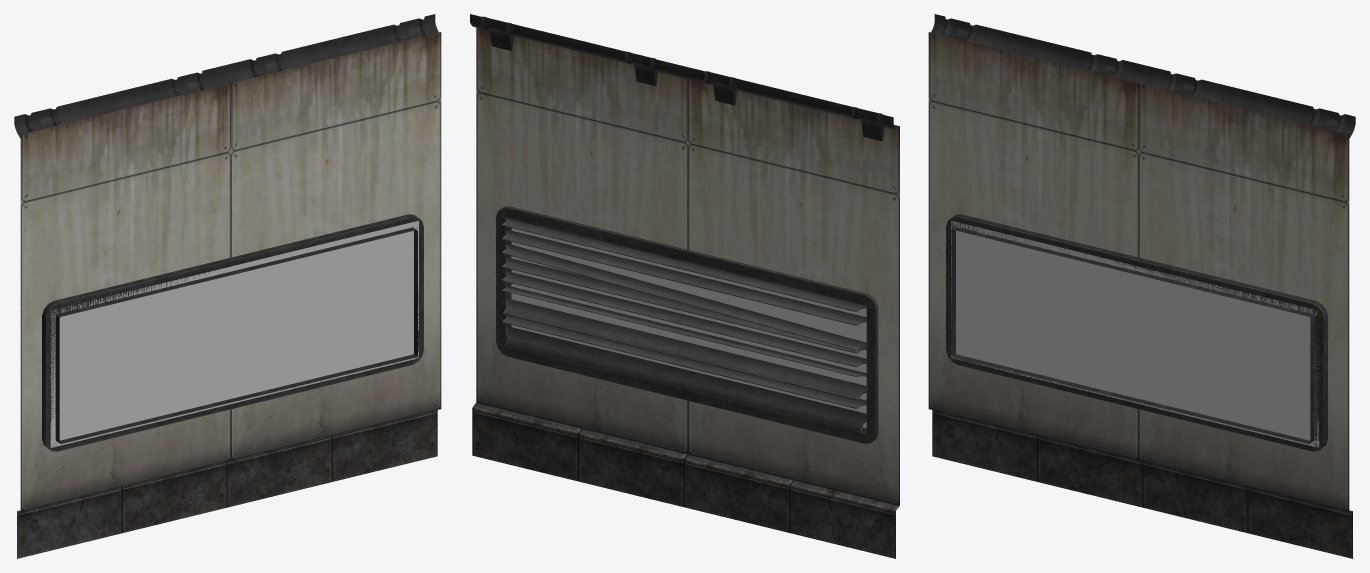
File: lab_window_large_shutter_damaged.dae
3 views of the same model, side by side, from view 1: azimuth 30°, elevation 25°; view 2: azimuth 150°, elevation 25°; view 3: azimuth 330°, elevation 25° (orthographic).
Parts seen in each view (by area): view 1: lab_window_large_shutter_damaged_, glass__7_; view 2: lab_window_large_shutter_damaged_, shutter_large_open__2_, glass__7_; view 3: lab_window_large_shutter_damaged_, glass__7_.
Boxes of the visible parts, x1,y1,x2,y2 form: lab_window_large_shutter_damaged_: (14,14,441,558); glass__7_: (50,220,418,447); lab_window_large_shutter_damaged_: (470,14,899,558); shutter_large_open__2_: (502,218,866,432); glass__7_: (511,228,866,428); lab_window_large_shutter_damaged_: (928,14,1355,558); glass__7_: (951,221,1319,447).
Size of the model in its own units: 4 by 4 by 0.2619.
